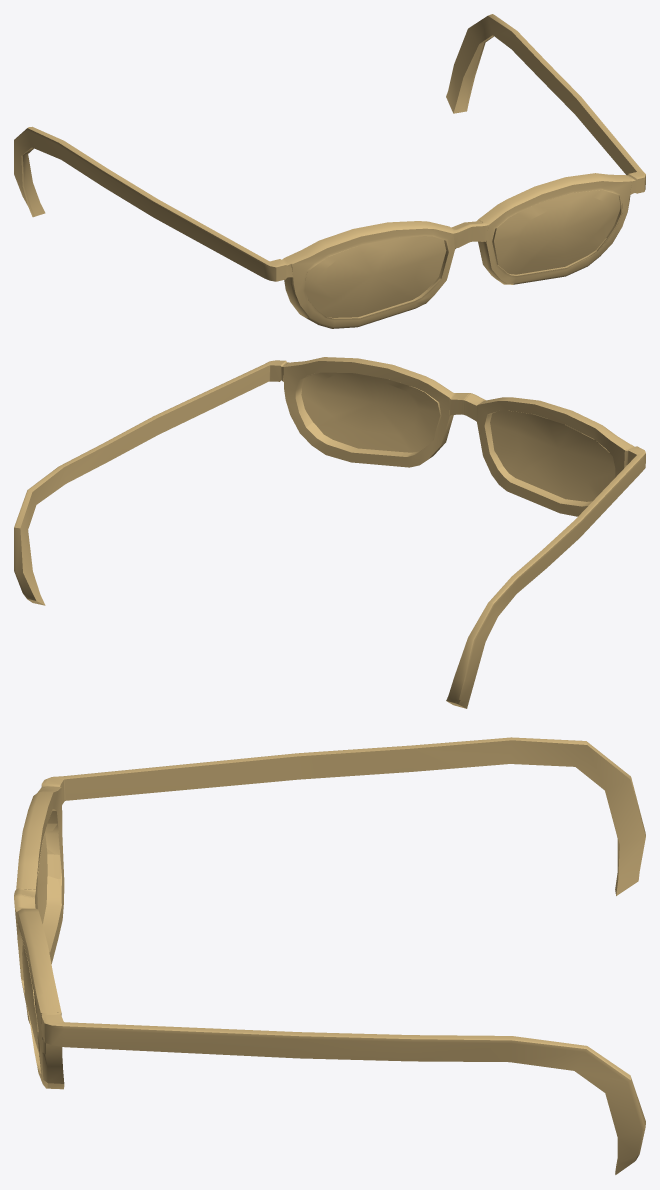
File: glasses_angular.glb
3 renders of one model, top to bottom at view 1: azimuth 30°, elevation 25°; view 2: azimuth 150°, elevation 25°; view 3: azimuth 270°, elevation 25°, orthographic. The views are drawn at different scales.
Visible parts, largest first — view 1: GlassesAngular; view 2: GlassesAngular; view 3: GlassesAngular.
Part boxes in pixels (bbox=[...]): GlassesAngular: bbox=[14, 14, 645, 328]; GlassesAngular: bbox=[14, 357, 645, 708]; GlassesAngular: bbox=[14, 737, 645, 1174].
Size of the model in its own units: 0.1536 by 0.0361 by 0.133.
